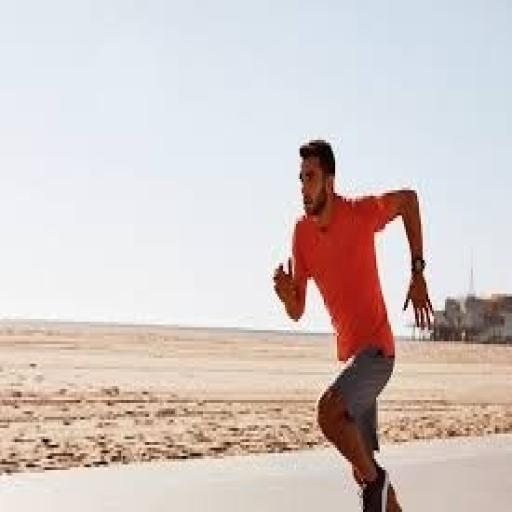running: (270, 134, 436, 509)
